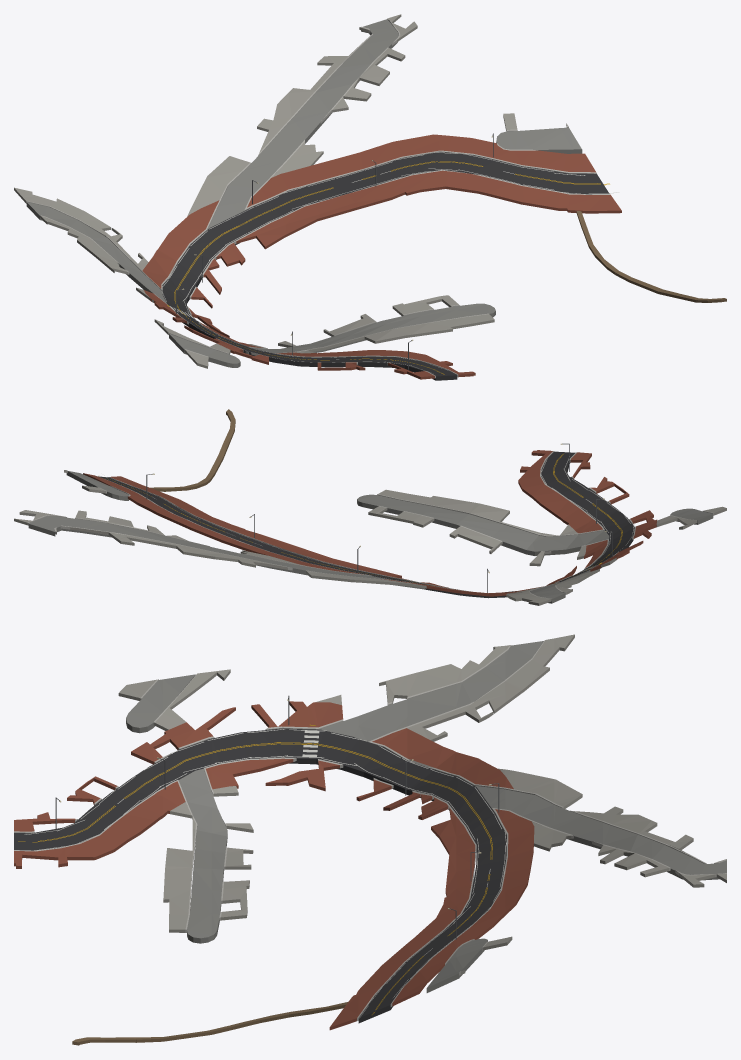
The picture shows the model from 3 angles, top to bottom: view 1: azimuth 30°, elevation 25°; view 2: azimuth 150°, elevation 25°; view 3: azimuth 270°, elevation 25°; orthographic projection. The views are drawn at different scales.
Bounding box in the file's own units: 149 × 32.49 × 146.
